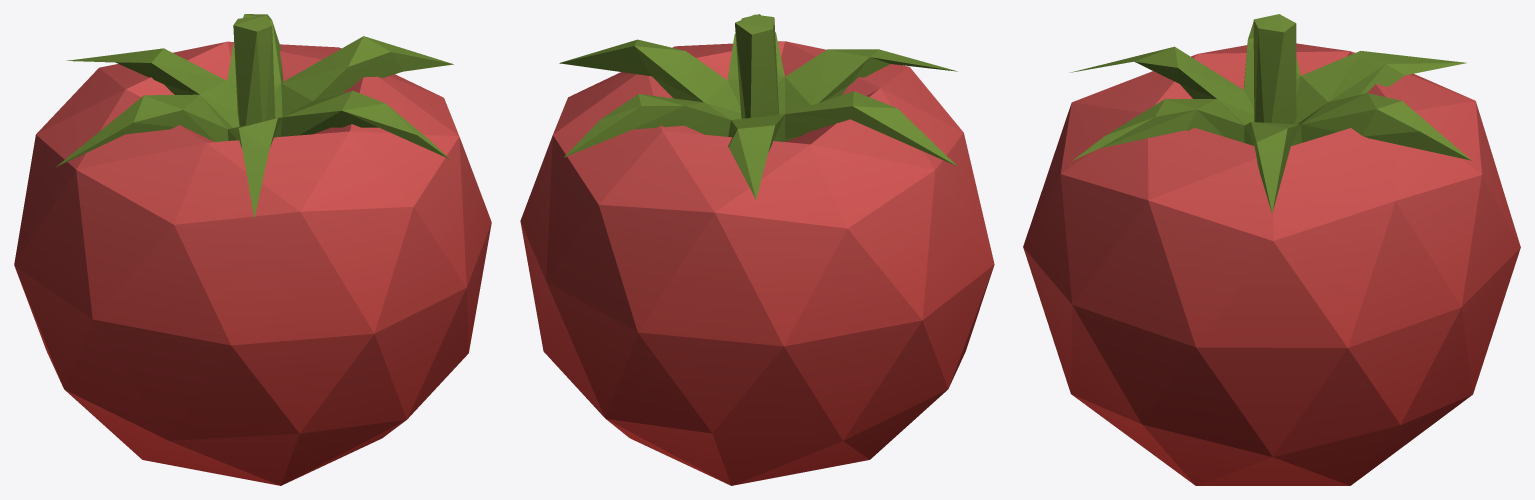
Rendered from Tomato.fbx.
3 views of the same model, side by side, from view 1: azimuth 30°, elevation 25°; view 2: azimuth 150°, elevation 25°; view 3: azimuth 270°, elevation 25° (orthographic). The views are drawn at different scales.
Parts seen in each view (by area): view 1: Tomato; view 2: Tomato; view 3: Tomato.
Boxes of the visible parts, x1=… form: Tomato: x1=14, y1=14, x2=491, y2=485; Tomato: x1=520, y1=14, x2=994, y2=485; Tomato: x1=1023, y1=14, x2=1520, y2=485.
Bounding box in the file's own units: 0.3099 × 0.3254 × 0.3248.
